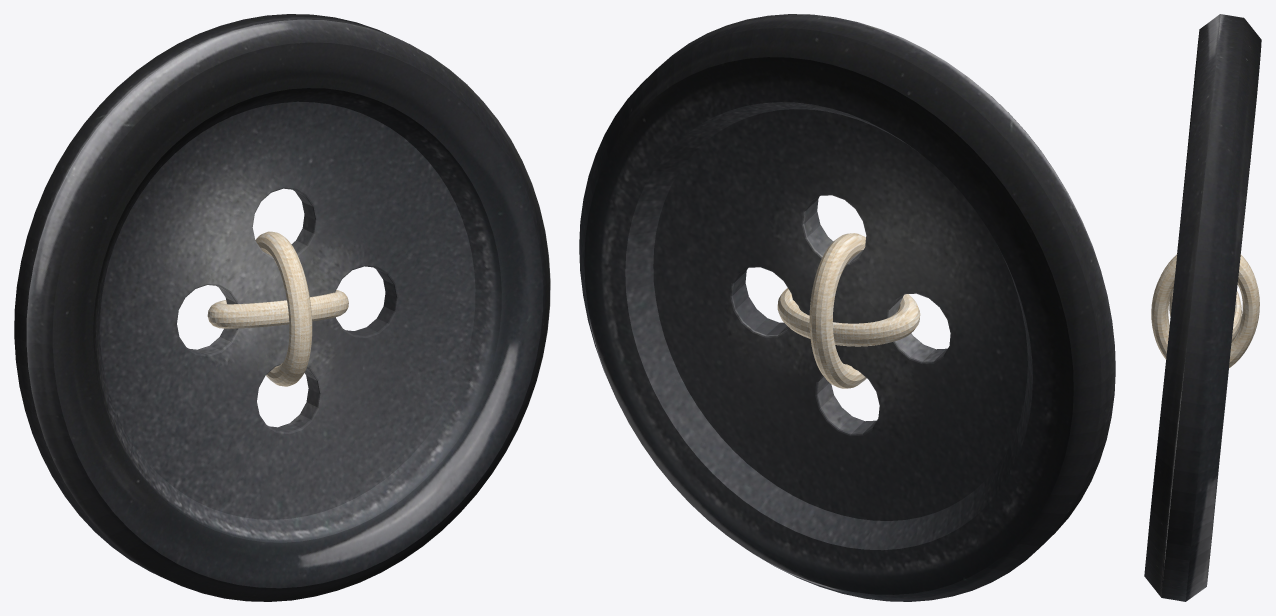
Rendered from Single_Shall_Button.glb.
3 renders of one model, left to right at view 1: azimuth 30°, elevation 25°; view 2: azimuth 150°, elevation 25°; view 3: azimuth 270°, elevation 25°, orthographic. The views are drawn at different scales.
Visible parts, largest first — view 1: Single_Shall_Buttons; view 2: Single_Shall_Buttons; view 3: Single_Shall_Buttons.
Part boxes in pixels (x1=…): Single_Shall_Buttons: x1=14, y1=14, x2=550, y2=601; Single_Shall_Buttons: x1=579, y1=14, x2=1115, y2=601; Single_Shall_Buttons: x1=1144, y1=14, x2=1261, y2=601.
Bounding box in the file's own units: 0.00282 × 0.00297 × 0.000601.
2 materials, 2 textured.
